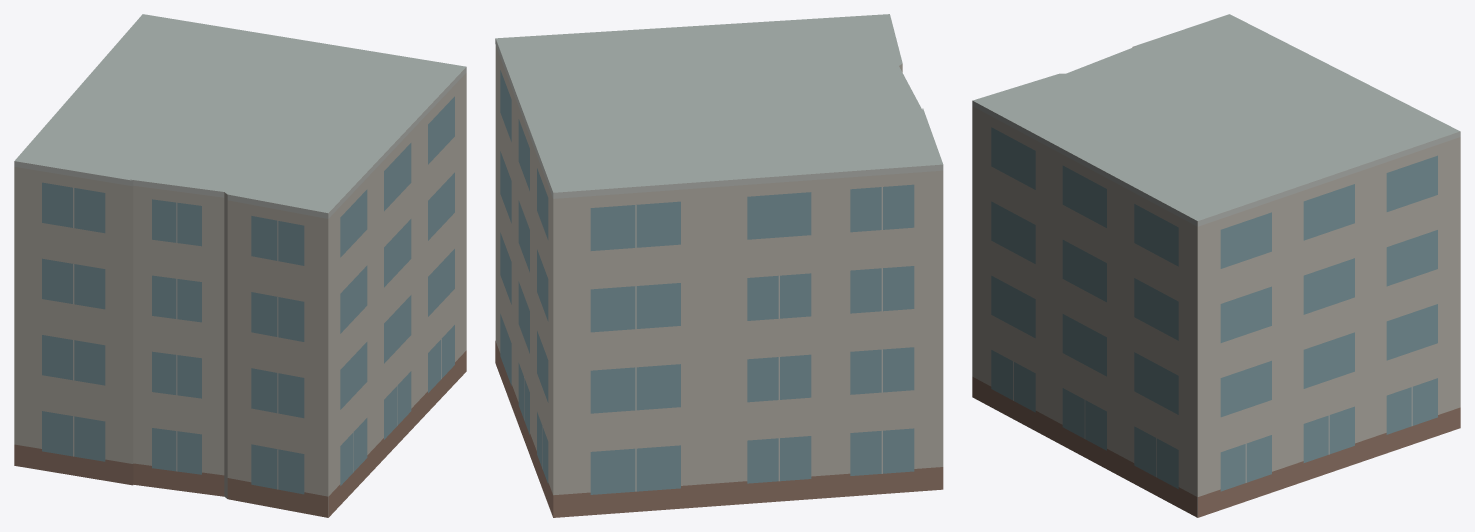
The model's file is survey-upis-32950727.glb.
3 renders of one model, left to right at view 1: azimuth 30°, elevation 25°; view 2: azimuth 150°, elevation 25°; view 3: azimuth 270°, elevation 25°, orthographic. The views are drawn at different scales.
Parts seen in each view (by area): view 1: survey-upis-32950727.tmp; view 2: survey-upis-32950727.tmp; view 3: survey-upis-32950727.tmp.
Boxes of the visible parts, left/top/right/bottom form: survey-upis-32950727.tmp: left=14, top=14, right=466, bottom=517; survey-upis-32950727.tmp: left=495, top=14, right=943, bottom=517; survey-upis-32950727.tmp: left=972, top=14, right=1460, bottom=517.
Size of the model in its own units: 19.48 by 13 by 19.39.
